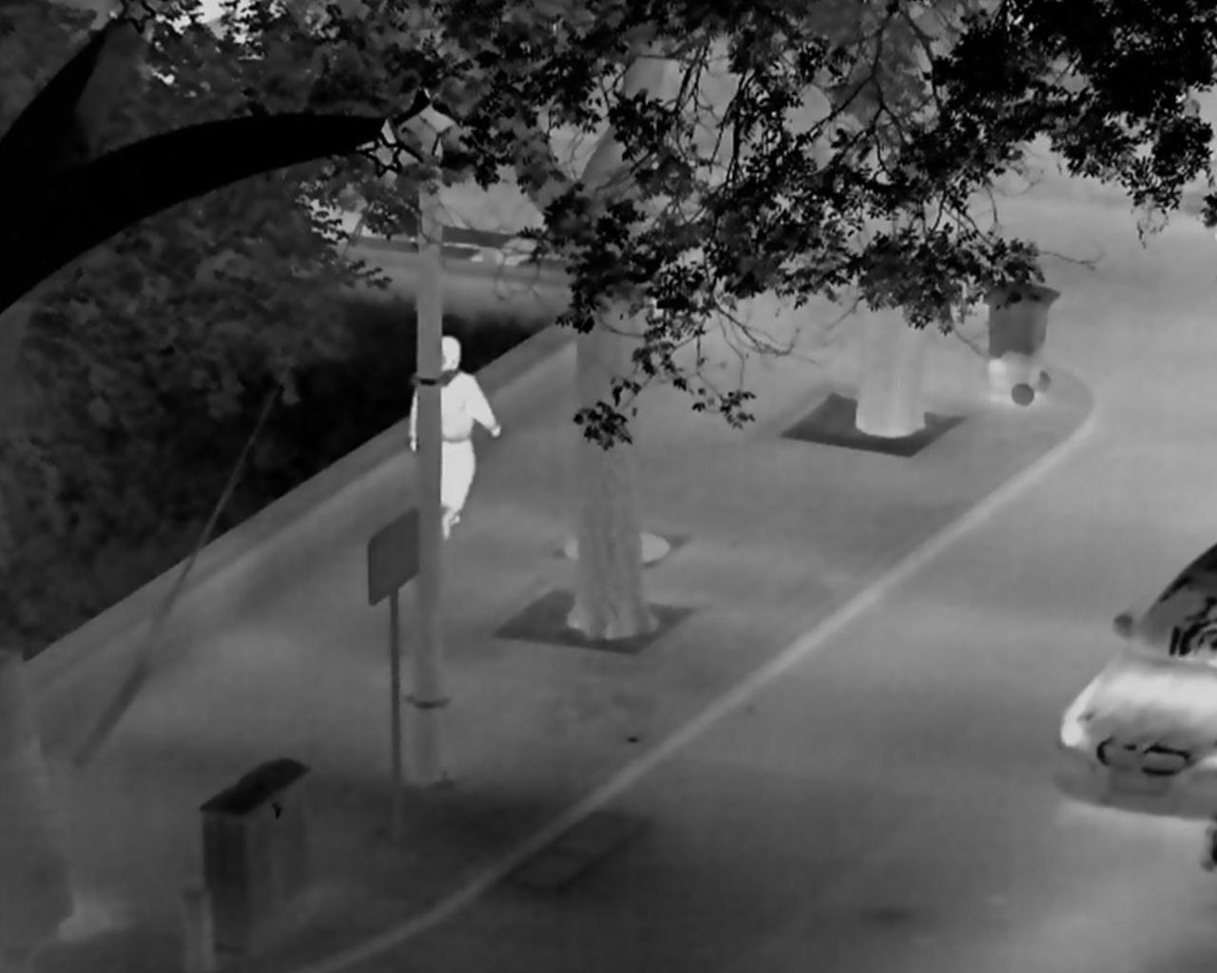person: (408, 335, 502, 541)
